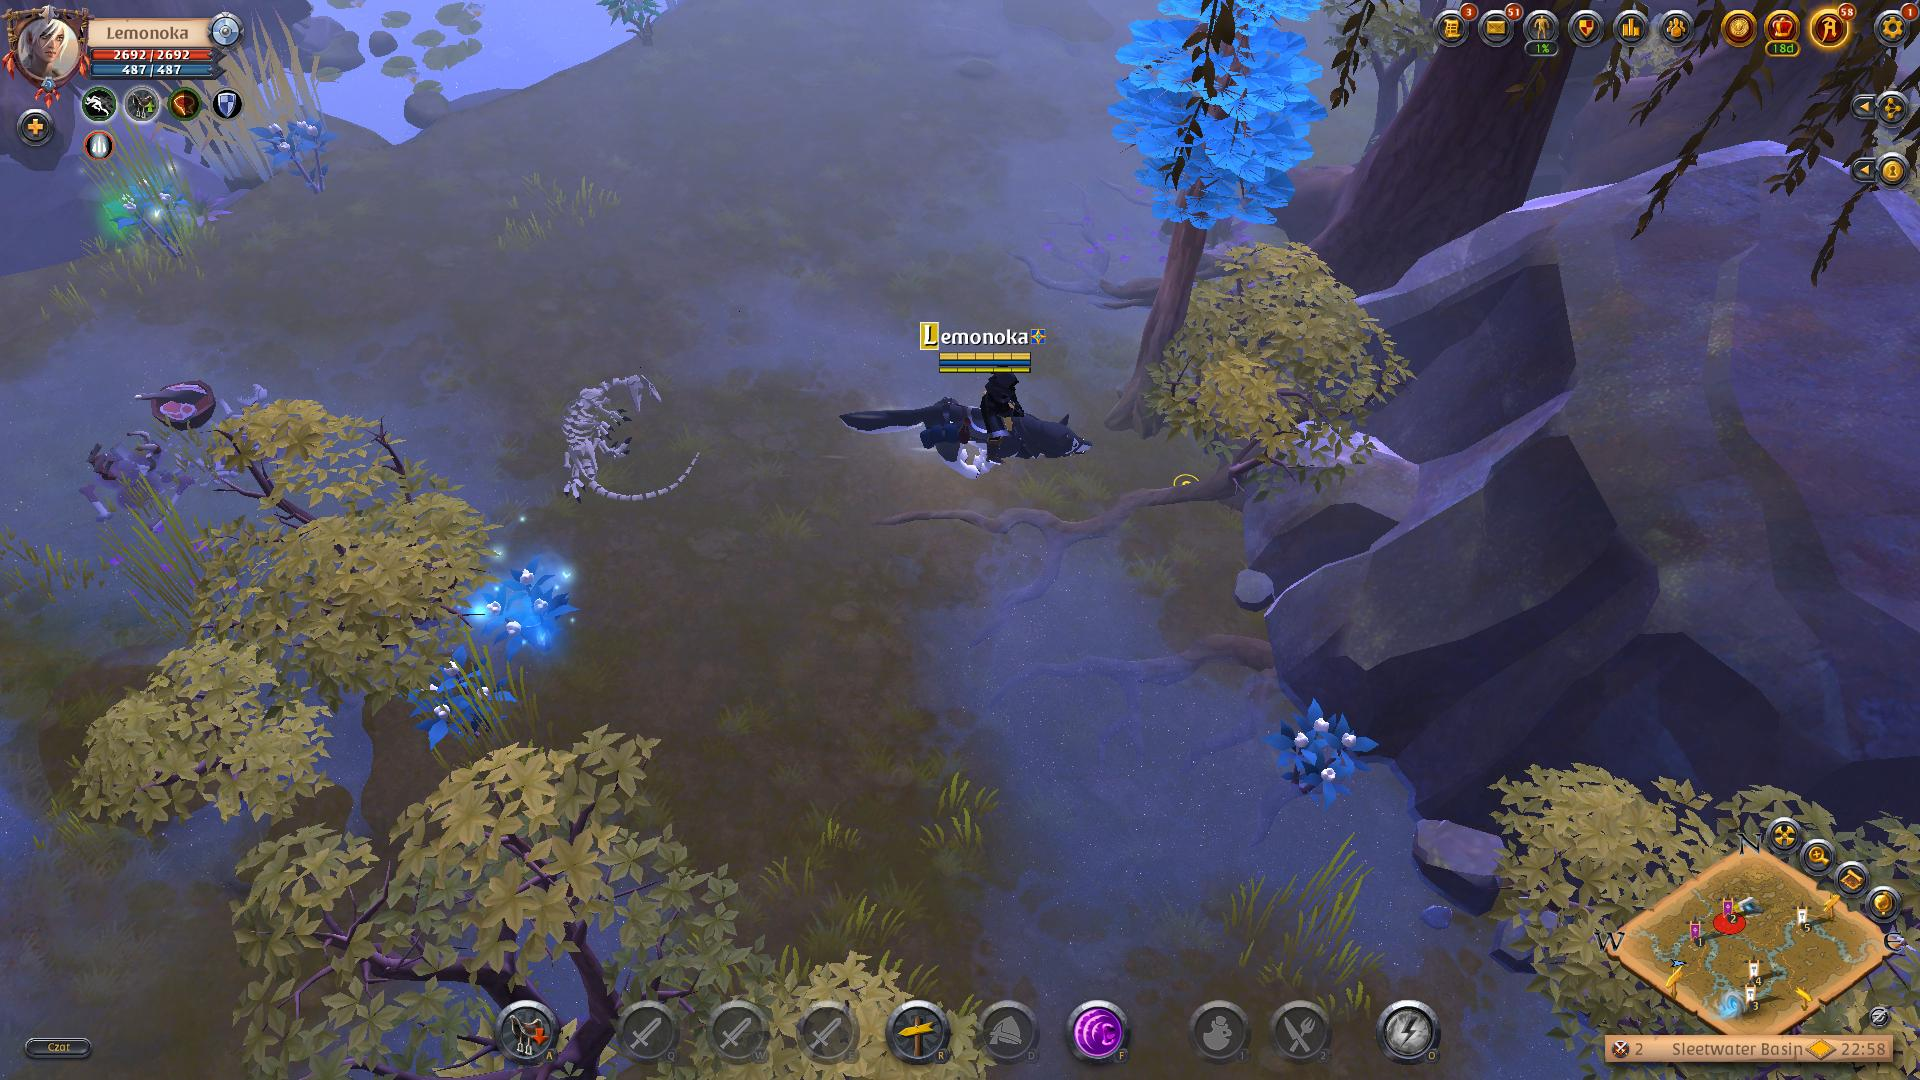fiber tier 4: (462, 554, 582, 663), (1267, 696, 1378, 808), (100, 173, 195, 258), (258, 113, 339, 191)
wood tier 3: (1116, 0, 1332, 241)
